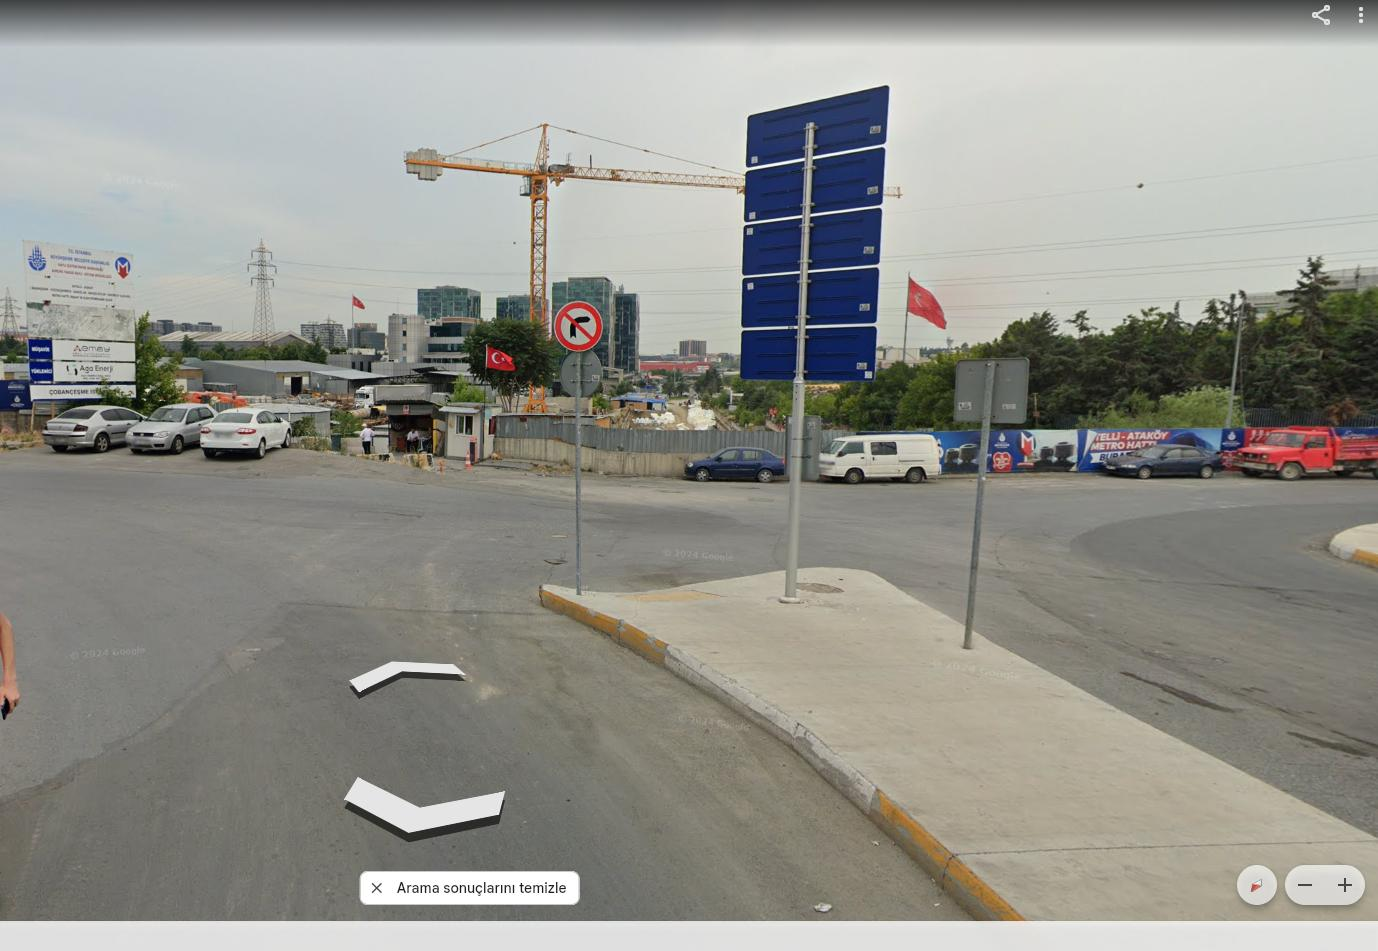rightturnsareforbidden: (554, 300, 601, 346)
